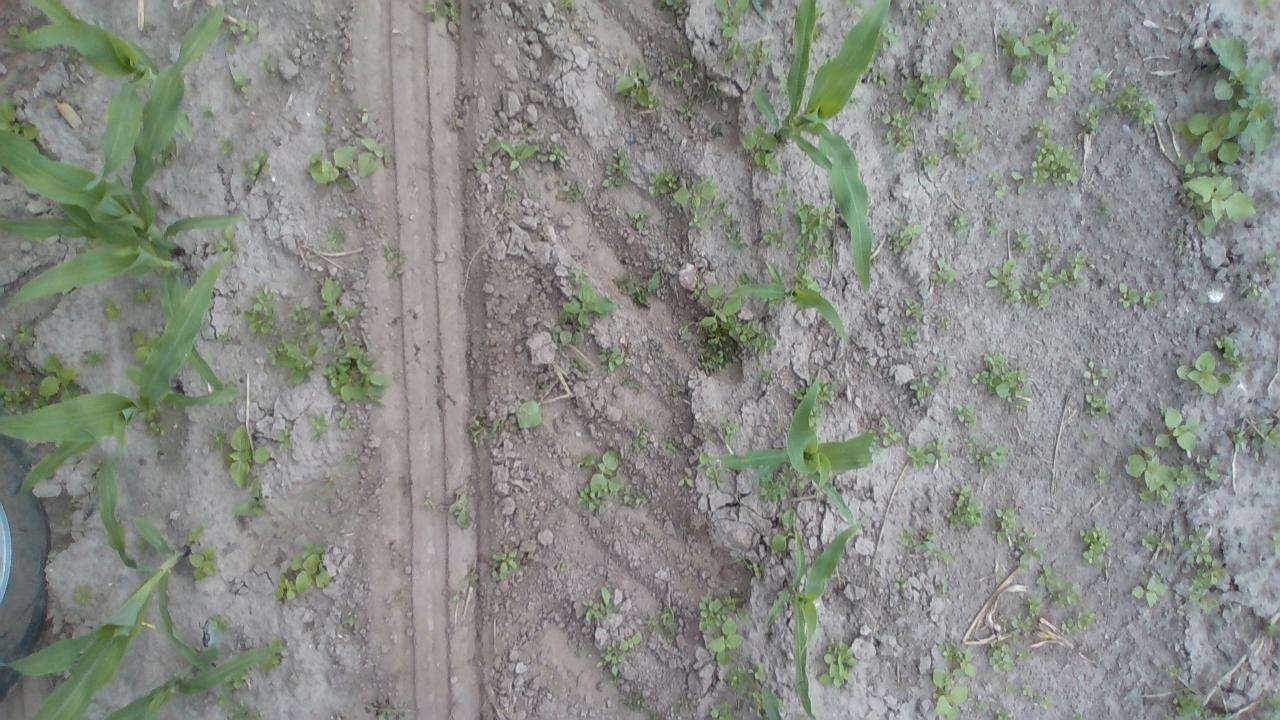Maize: (0, 256, 242, 574), (0, 4, 242, 255), (748, 0, 892, 292), (0, 516, 208, 718), (0, 204, 222, 390), (3, 1, 197, 184), (705, 364, 876, 522), (763, 512, 857, 720), (107, 642, 282, 720), (730, 260, 849, 343), (758, 679, 782, 720)
Weeds: (1166, 100, 1280, 166), (1002, 8, 1082, 84), (575, 449, 644, 519), (1178, 524, 1229, 611), (328, 338, 401, 398), (304, 138, 385, 190), (1184, 174, 1254, 232), (272, 542, 336, 604), (696, 587, 746, 665), (1208, 33, 1267, 98), (1126, 442, 1188, 503), (792, 194, 834, 284), (969, 344, 1028, 397), (267, 336, 329, 386), (669, 54, 716, 119), (562, 274, 624, 323), (225, 420, 271, 486), (992, 507, 1045, 564), (1027, 138, 1080, 190), (946, 40, 990, 100), (1175, 348, 1232, 394), (245, 282, 288, 342), (699, 284, 748, 334), (316, 274, 362, 324), (930, 666, 971, 720), (1110, 82, 1157, 127), (741, 124, 784, 172), (1038, 564, 1087, 606), (901, 69, 946, 113), (1155, 407, 1201, 450), (39, 354, 80, 402), (616, 269, 664, 310), (598, 631, 642, 675), (948, 481, 983, 536), (816, 638, 856, 686), (696, 336, 741, 378), (613, 56, 648, 108), (1025, 263, 1067, 306), (0, 94, 39, 140), (900, 530, 956, 562), (1076, 520, 1114, 564), (710, 0, 760, 33), (1232, 418, 1280, 452), (878, 103, 914, 148), (584, 586, 626, 624), (732, 320, 778, 354), (673, 175, 717, 210), (942, 638, 978, 678), (942, 124, 979, 162), (719, 205, 752, 247), (598, 149, 630, 192), (1132, 571, 1172, 605), (445, 489, 477, 531), (907, 439, 948, 471), (236, 486, 272, 522), (769, 508, 799, 551), (885, 223, 926, 254), (490, 545, 522, 581), (500, 136, 532, 172), (1012, 598, 1040, 638), (985, 256, 1018, 289), (512, 398, 548, 428), (1212, 331, 1248, 361), (189, 552, 221, 584), (928, 257, 962, 287), (1171, 686, 1204, 716), (648, 168, 672, 209), (128, 327, 156, 362), (744, 40, 770, 77), (910, 0, 940, 31), (642, 607, 676, 633), (598, 342, 628, 371), (1, 384, 32, 412), (978, 443, 1008, 471), (878, 415, 902, 450), (990, 640, 1014, 674), (1076, 103, 1104, 132), (229, 16, 260, 42), (1063, 612, 1098, 634), (724, 663, 752, 690), (1196, 451, 1222, 479), (758, 224, 791, 246), (1068, 246, 1090, 279), (698, 453, 722, 483), (244, 148, 266, 180), (1143, 526, 1172, 550), (909, 374, 932, 404), (1048, 71, 1075, 96), (720, 39, 744, 67), (309, 408, 331, 438), (554, 323, 585, 344), (955, 400, 979, 427), (426, 2, 459, 21), (136, 286, 160, 312), (1080, 359, 1108, 381), (1242, 280, 1270, 302), (1180, 152, 1210, 172), (560, 182, 587, 204), (468, 414, 486, 446), (631, 423, 651, 451), (896, 323, 920, 346), (72, 581, 94, 606), (902, 294, 927, 316), (819, 378, 840, 404), (86, 347, 110, 369), (1120, 282, 1140, 308), (658, 0, 695, 14), (1009, 228, 1032, 250), (234, 75, 258, 96), (758, 477, 782, 498), (1262, 248, 1280, 276), (986, 172, 1004, 200), (217, 226, 236, 252), (186, 523, 208, 545), (7, 22, 31, 42), (294, 304, 314, 328), (930, 364, 954, 384), (874, 63, 891, 91), (104, 300, 125, 322), (1036, 243, 1058, 264), (215, 134, 238, 154), (628, 210, 648, 233), (678, 465, 696, 490), (540, 148, 564, 166), (708, 700, 729, 720), (950, 214, 971, 234), (228, 704, 254, 720), (1010, 682, 1036, 698), (882, 25, 900, 48), (472, 160, 492, 180), (148, 417, 164, 441), (209, 613, 229, 632), (1086, 392, 1106, 411), (1032, 118, 1052, 137), (744, 558, 765, 576), (628, 688, 646, 708), (932, 575, 950, 595), (262, 657, 282, 675), (228, 674, 249, 691), (1263, 691, 1280, 712), (356, 106, 372, 128), (1261, 620, 1280, 638), (1016, 646, 1035, 664), (1090, 68, 1104, 92), (985, 214, 1000, 236), (1011, 172, 1026, 194), (770, 180, 790, 196), (0, 352, 15, 373), (261, 56, 275, 78), (752, 660, 766, 682), (274, 428, 291, 446), (327, 230, 346, 246), (891, 572, 907, 591), (724, 415, 740, 434), (212, 428, 227, 448), (1265, 531, 1280, 551), (552, 0, 577, 12), (760, 366, 776, 384), (841, 0, 867, 11), (621, 377, 643, 390), (1094, 466, 1108, 486), (336, 411, 352, 428), (660, 441, 680, 454), (216, 692, 230, 710), (936, 316, 955, 329), (382, 248, 402, 260), (1140, 292, 1158, 305), (18, 322, 34, 336), (689, 214, 705, 228), (1036, 696, 1054, 708), (1006, 292, 1020, 307), (924, 150, 939, 164), (772, 204, 788, 217), (1254, 0, 1274, 10), (202, 106, 216, 120), (344, 613, 359, 626), (992, 708, 1008, 720), (322, 120, 336, 132), (1168, 666, 1182, 678)
